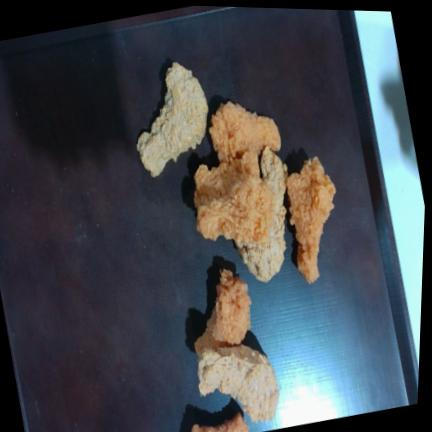chicken: (194, 152, 283, 246), (137, 62, 208, 177), (236, 150, 287, 282), (198, 344, 279, 422), (287, 156, 336, 283), (195, 269, 251, 353), (210, 101, 281, 162)
